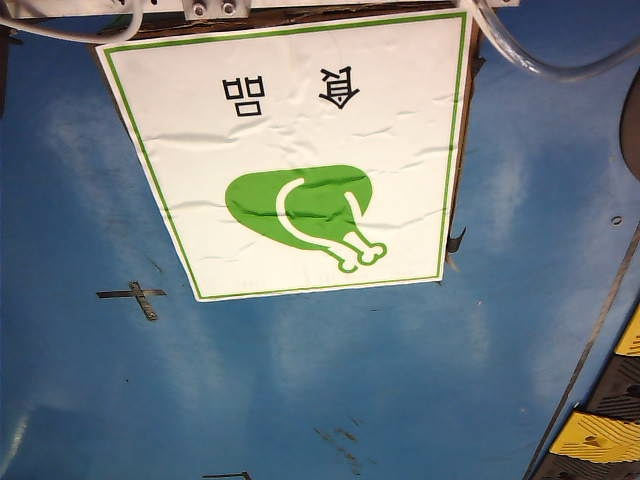Cube_food: (193, 50, 436, 291)
